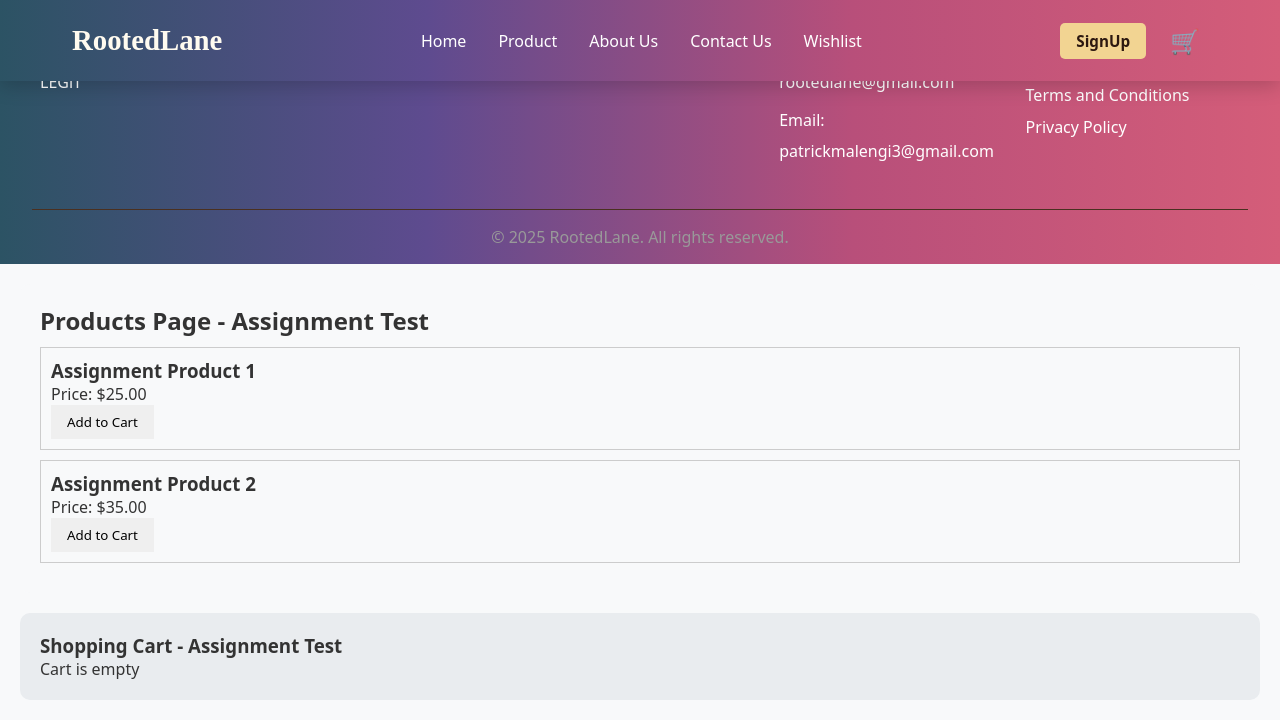
Test: Final Assignment Tests - All Endpoints Working › TEST 3: Products Page
(page scrolled)
Expected: the element with id "assignment-products" is shown, 0,284 -> 1279,700
Expected: the number of elements with class "assignment-product" is 2, 40,347 -> 1240,450; 40,460 -> 1240,563
Add products to cart
Click the button with class "assignment-add-cart" below "Price: $25.00": (103, 422) 51,405 -> 154,439
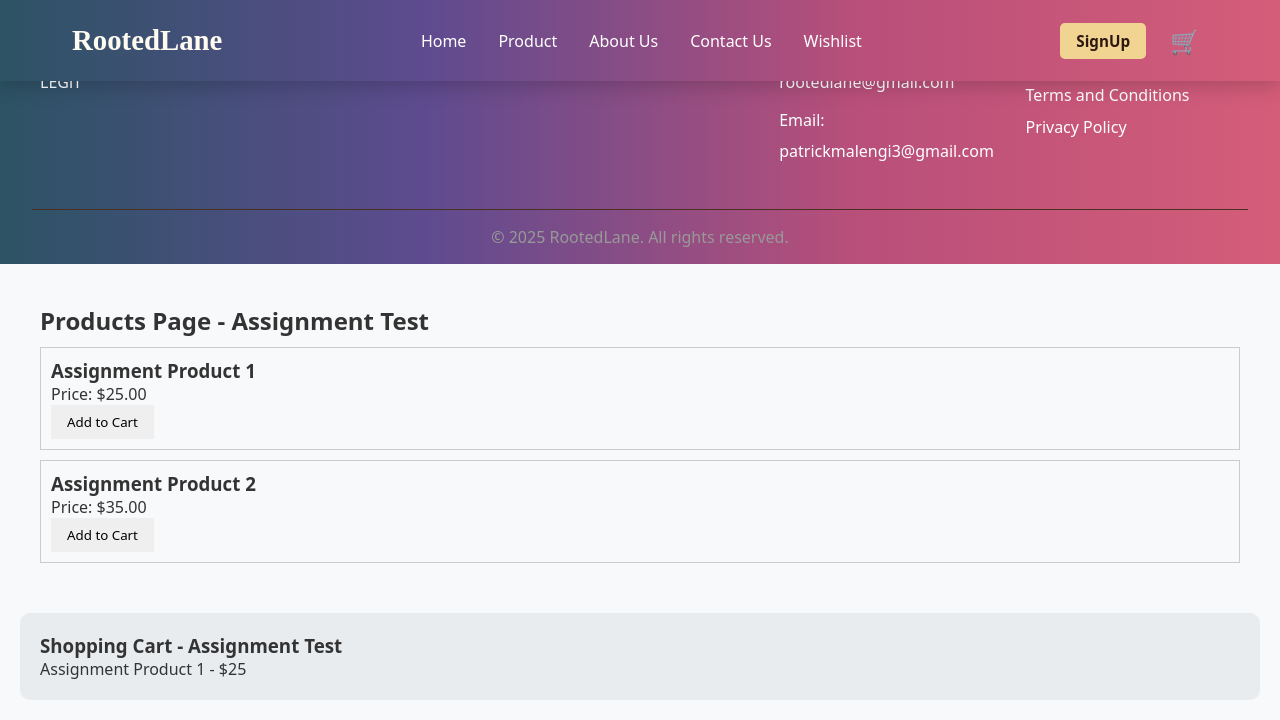
Result: the text with id "assignment-cart-content" shows "Assignment Product 1" at 40,658 -> 246,680
Click the button with class "assignment-add-cart" below "Price: $35.00": (103, 535) 51,518 -> 154,552
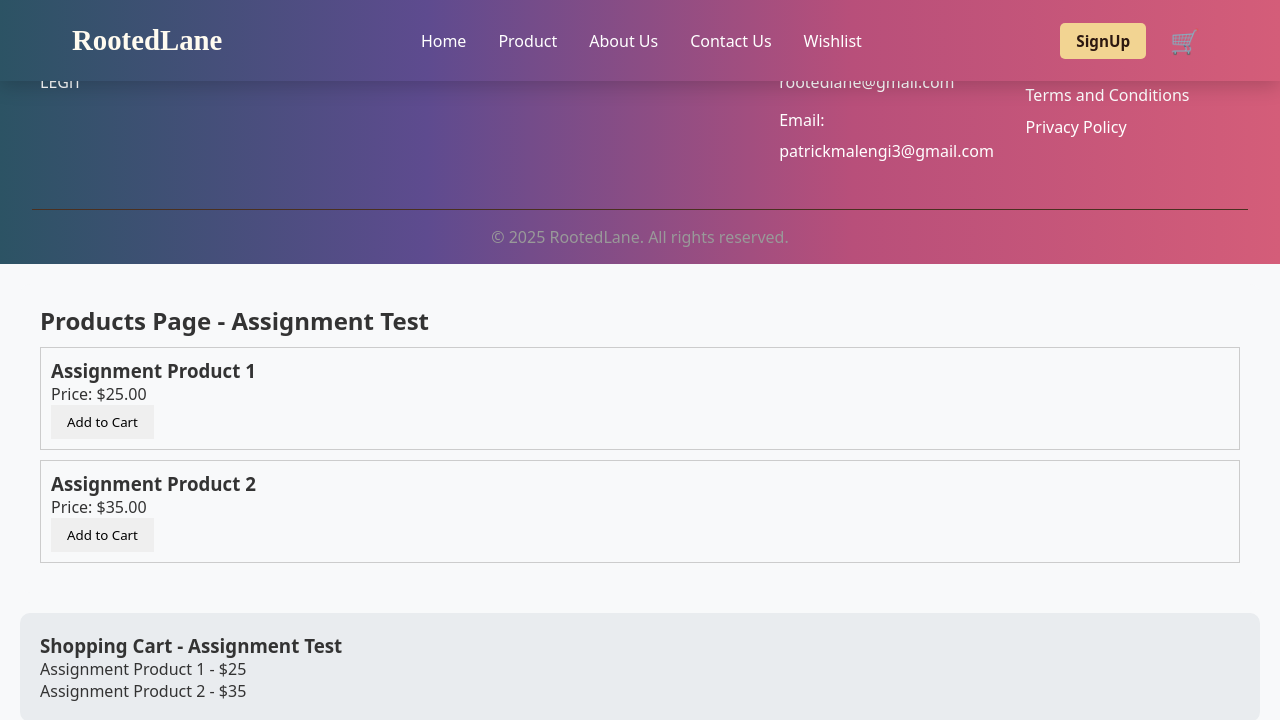
Result: the text with id "assignment-cart-content" shows "Assignment Product 2" at 40,680 -> 246,702
